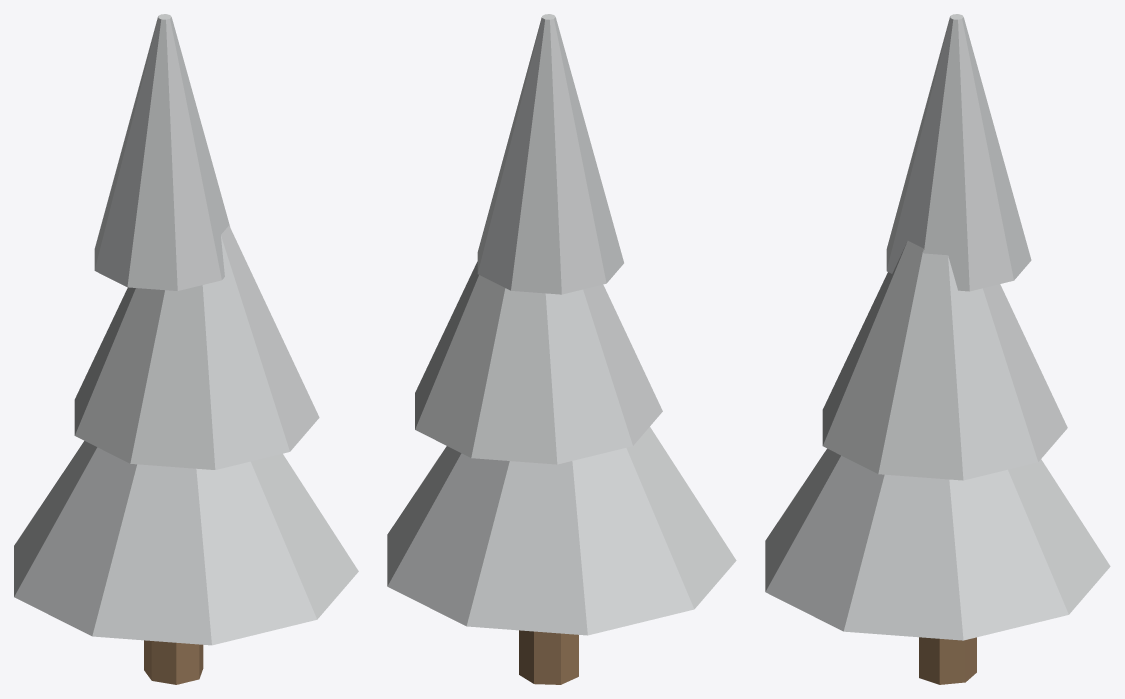
Rendered from conifer_03_snow.glb.
The picture shows the model from 3 angles, left to right: view 1: azimuth 30°, elevation 25°; view 2: azimuth 150°, elevation 25°; view 3: azimuth 270°, elevation 25°; orthographic projection.
Parts seen in each view (by area): view 1: conifer_03_snow_needles_1, conifer_03_snow_needles_2, conifer_03_snow_needles_3, conifer_03_snow_trunk; view 2: conifer_03_snow_needles_1, conifer_03_snow_needles_2, conifer_03_snow_needles_3, conifer_03_snow_trunk; view 3: conifer_03_snow_needles_1, conifer_03_snow_needles_2, conifer_03_snow_needles_3, conifer_03_snow_trunk.
Part boxes in pixels (x1=…): conifer_03_snow_needles_1: x1=14, y1=441, x2=358, y2=645; conifer_03_snow_needles_2: x1=74, y1=225, x2=319, y2=469; conifer_03_snow_needles_3: x1=94, y1=14, x2=229, y2=290; conifer_03_snow_trunk: x1=144, y1=640, x2=203, y2=684; conifer_03_snow_needles_1: x1=387, y1=427, x2=736, y2=635; conifer_03_snow_needles_2: x1=415, y1=261, x2=662, y2=464; conifer_03_snow_needles_3: x1=477, y1=14, x2=623, y2=294; conifer_03_snow_trunk: x1=519, y1=630, x2=578, y2=684; conifer_03_snow_needles_1: x1=765, y1=448, x2=1110, y2=640; conifer_03_snow_needles_2: x1=822, y1=241, x2=1067, y2=480; conifer_03_snow_needles_3: x1=886, y1=14, x2=1031, y2=291; conifer_03_snow_trunk: x1=919, y1=637, x2=976, y2=684.
Bounding box in the file's own units: 2.52 × 5.18 × 2.48.
